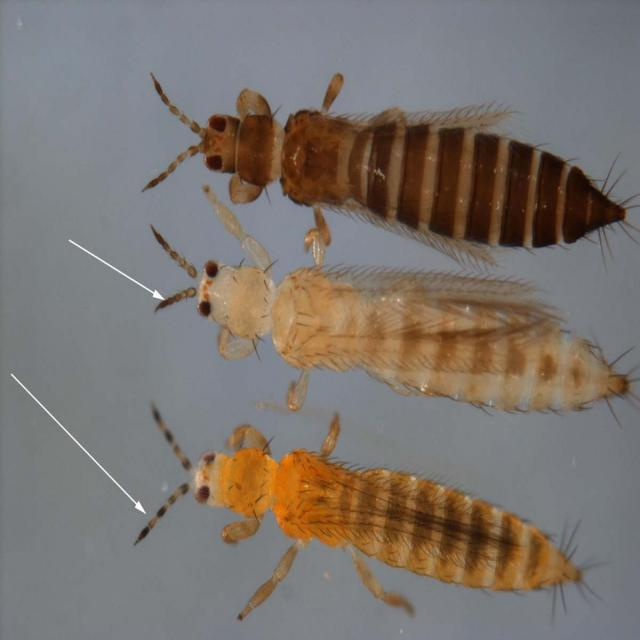thrip: (111, 211, 639, 432), (105, 60, 632, 273), (121, 404, 590, 623)
